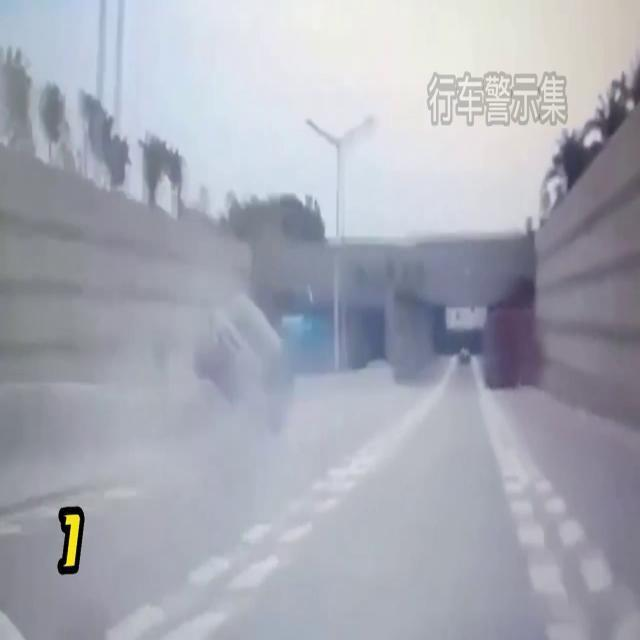accident: (194, 292, 288, 431)
